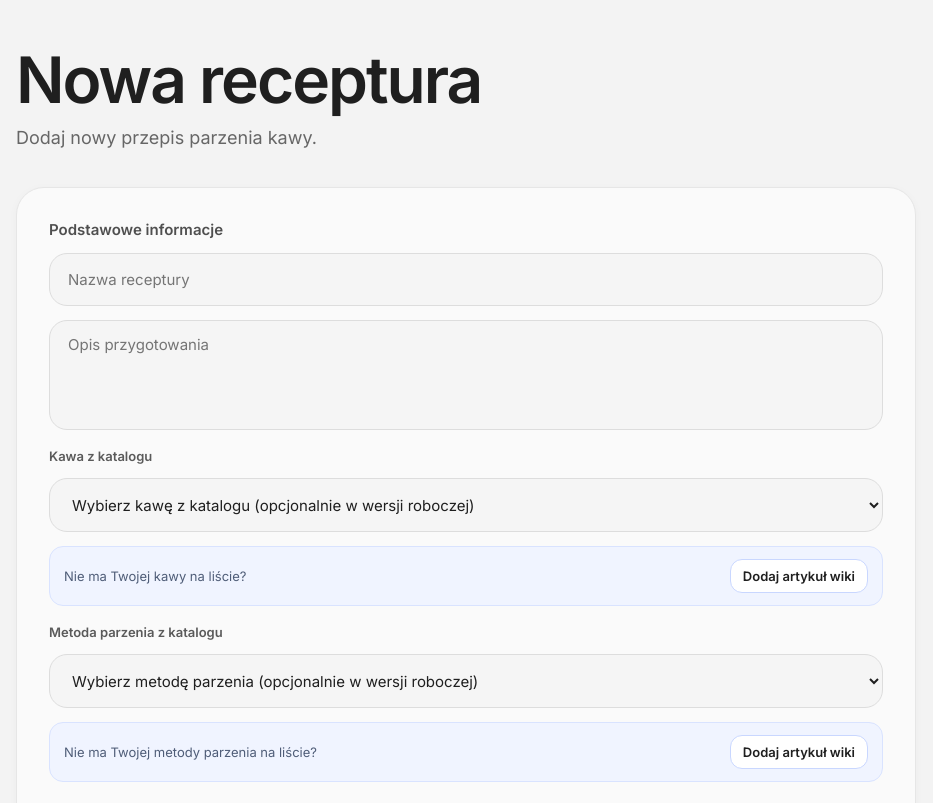
it: RecipesForm › maps backend validation errors to fields
Expected: the heading "Nowa receptura" is shown, [16,41,481,118]
Type "Poranna V60" into the field with placeholder "Nazwa receptury". click: coordinates (466, 280)
box: [49,253,883,306]
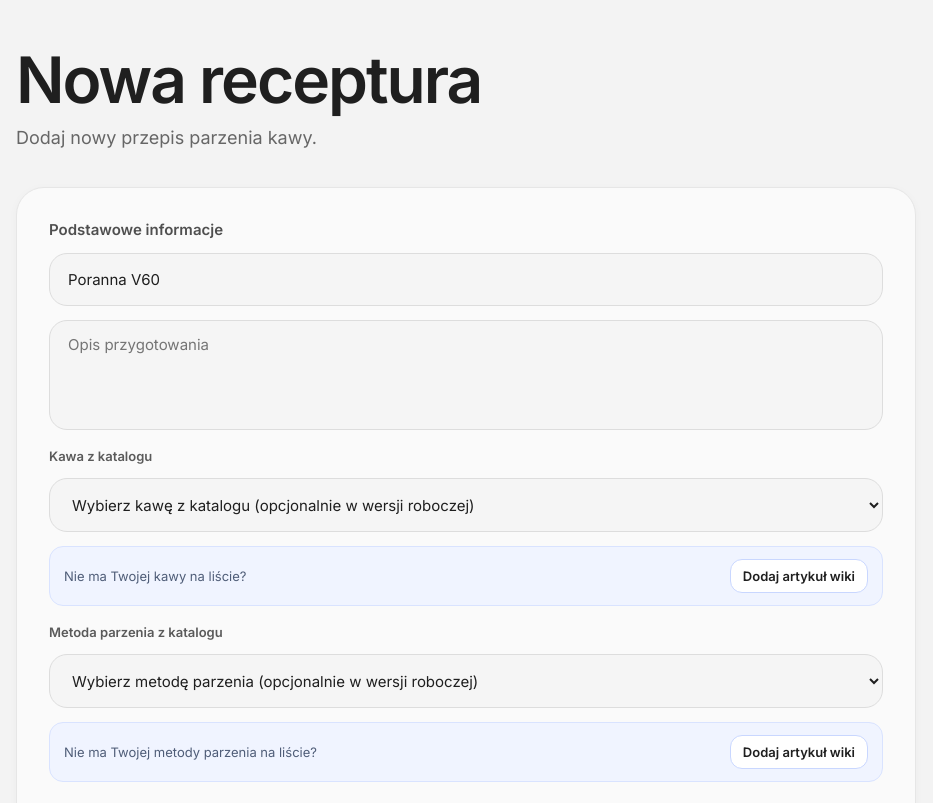
Type "Zalej kawę wodą i poczekaj." into the text box with placeholder "Opis przygotowania". click: coordinates (466, 375)
box: [49,320,883,430]
(page scrolled)
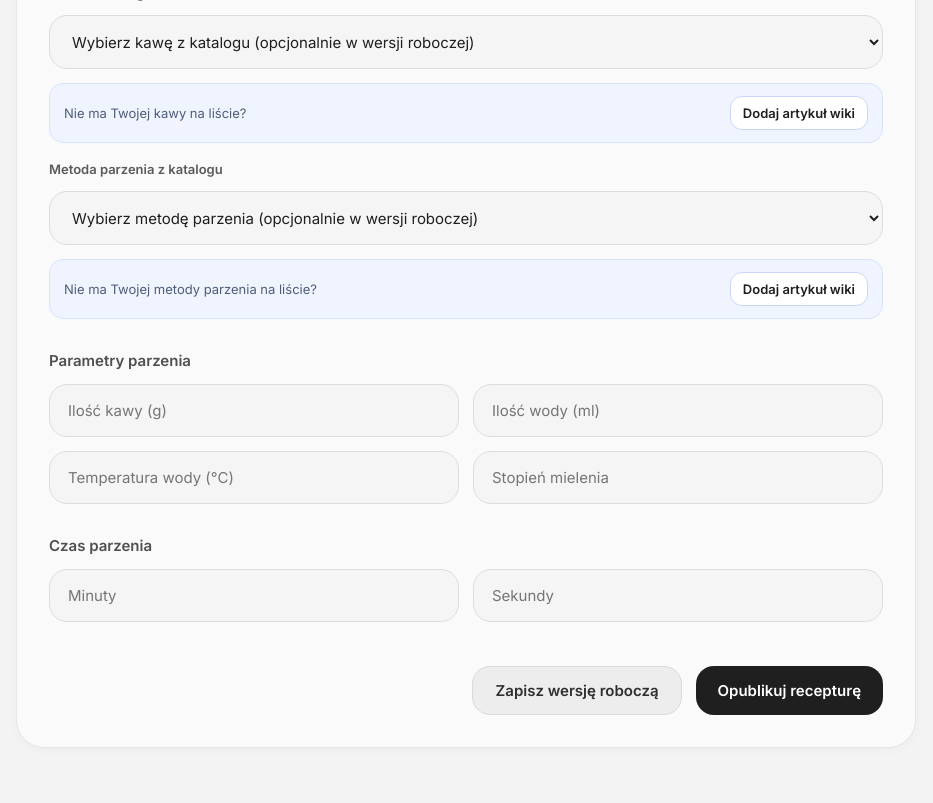
Click the button "Zapisz wersję roboczą". click: coordinates (577, 690)
box: [472,666,682,715]
(page scrolled)
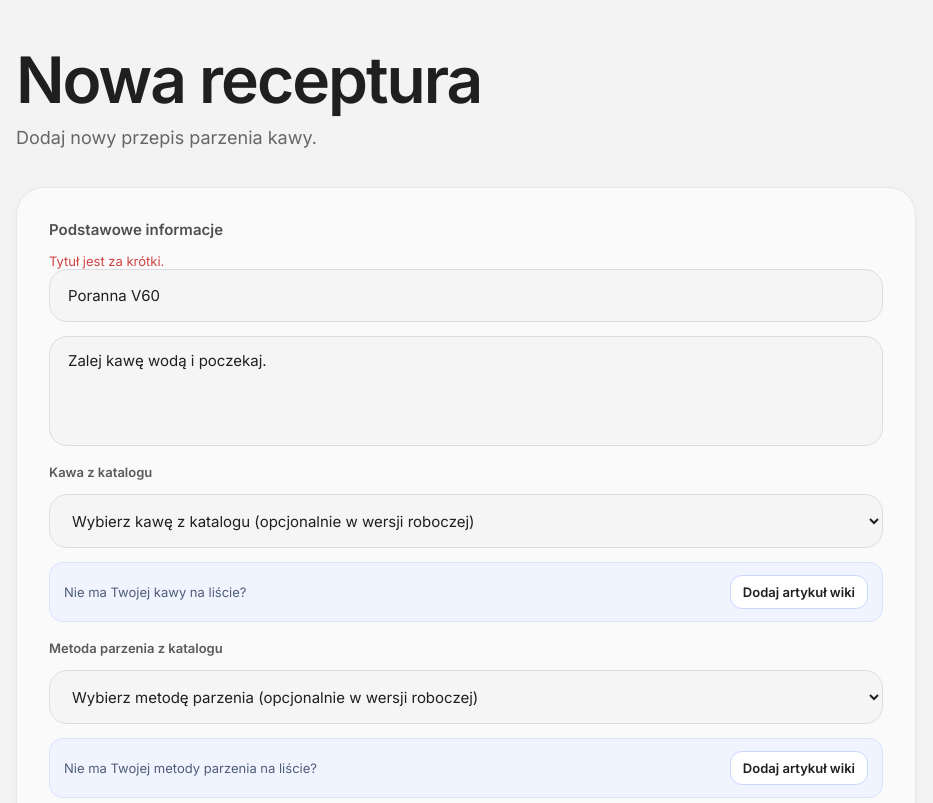
Now the text "Tytuł jest za krótki." is shown, box [49,253,164,269]
